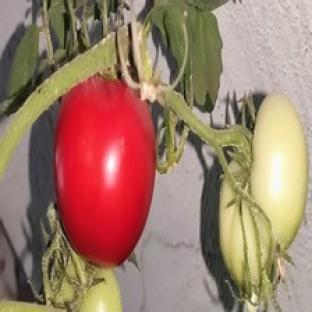Tomato: (55, 76, 155, 267), (219, 94, 309, 289), (219, 180, 271, 288), (80, 269, 122, 311)
